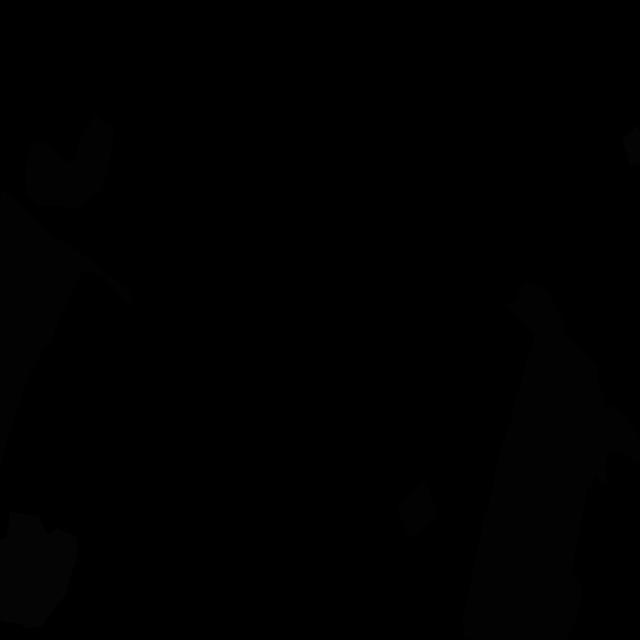cardboard: (462, 319, 640, 640), (0, 191, 134, 468), (24, 115, 114, 210), (507, 284, 564, 338), (398, 480, 440, 540)
soft_plastic: (0, 511, 78, 628), (622, 124, 640, 166)
